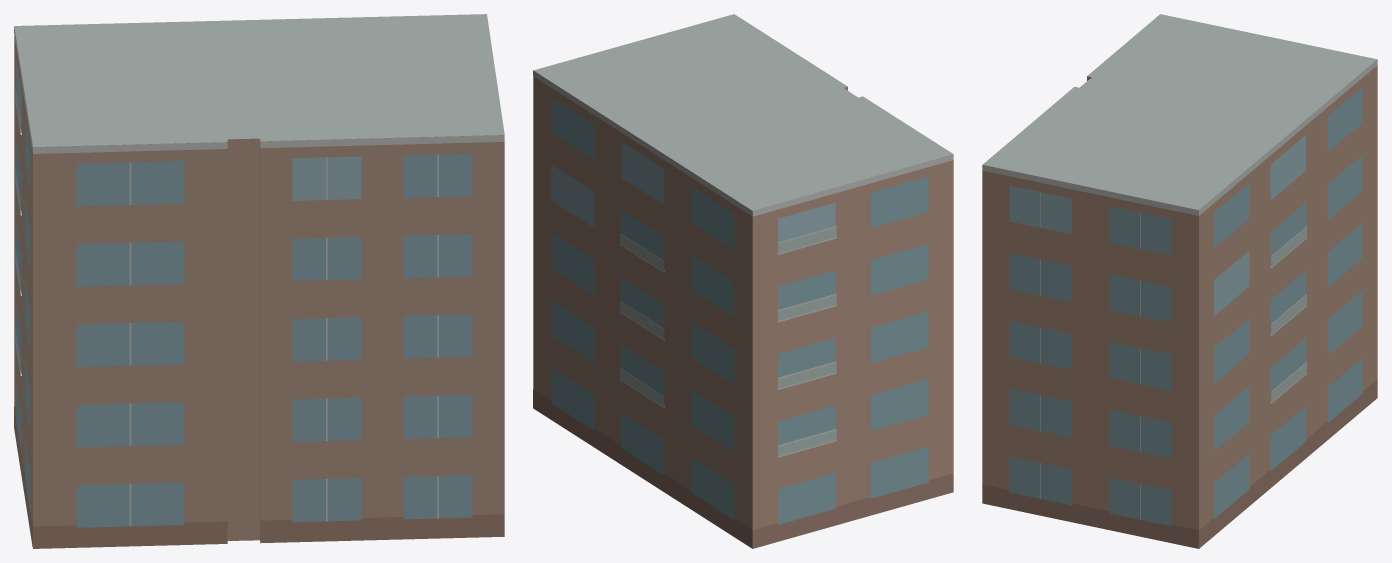
The model's file is survey-upis-32846162.glb.
The picture shows the model from 3 angles, left to right: view 1: azimuth 30°, elevation 25°; view 2: azimuth 150°, elevation 25°; view 3: azimuth 270°, elevation 25°; orthographic projection. The views are drawn at different scales.
Visible parts, largest first — view 1: survey-upis-32846162.tmp; view 2: survey-upis-32846162.tmp; view 3: survey-upis-32846162.tmp.
Boxes of the visible parts, left/top/right/bottom form: survey-upis-32846162.tmp: left=14, top=14, right=504, bottom=548; survey-upis-32846162.tmp: left=533, top=14, right=953, bottom=548; survey-upis-32846162.tmp: left=982, top=14, right=1377, bottom=548.
Size of the model in its own units: 17.65 by 14.2 by 15.02.
